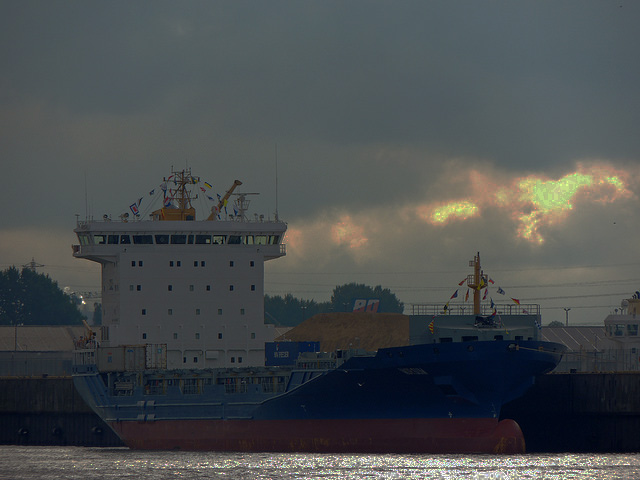container_ship: (73, 168, 567, 459)
